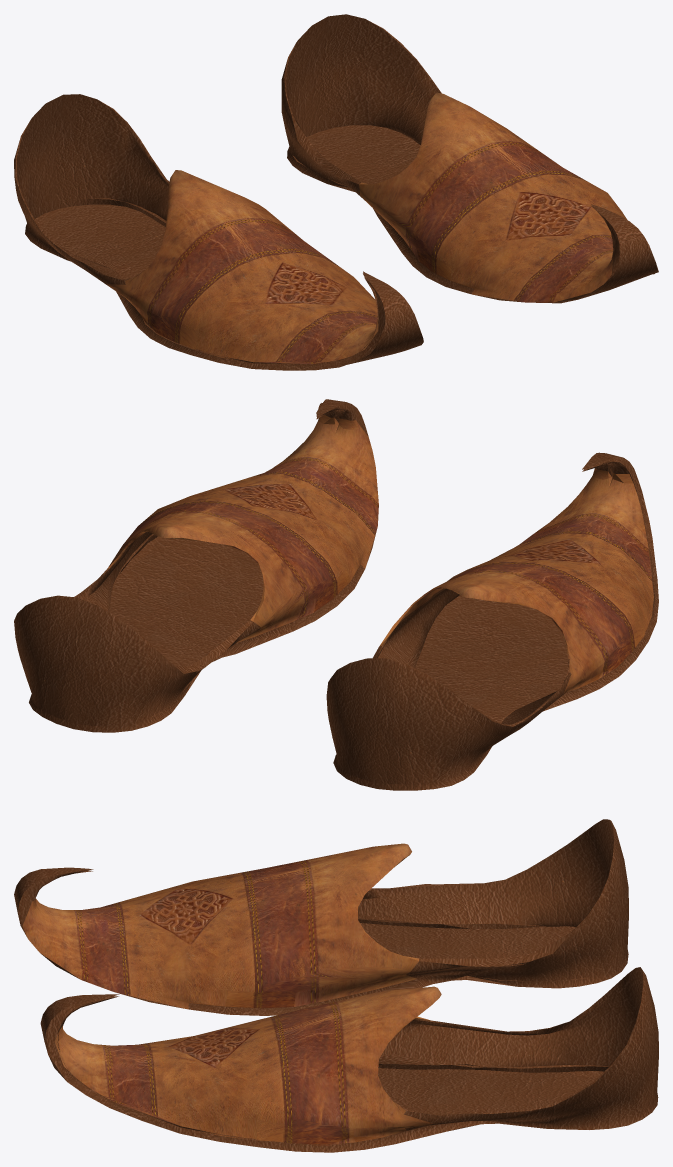
The model's file is Shoes.fbx.
The picture shows the model from 3 angles, top to bottom: view 1: azimuth 30°, elevation 25°; view 2: azimuth 150°, elevation 25°; view 3: azimuth 270°, elevation 25°; orthographic projection. The views are drawn at different scales.
Parts seen in each view (by area): view 1: shoes; view 2: shoes; view 3: shoes.
Part boxes in pixels (bbox=[...]): shoes: bbox=[14, 14, 658, 370]; shoes: bbox=[14, 399, 658, 790]; shoes: bbox=[14, 819, 658, 1152].
Size of the model in its own units: 27.37 by 6.79 by 30.57.
Materials: 2 (2 with a texture image).
